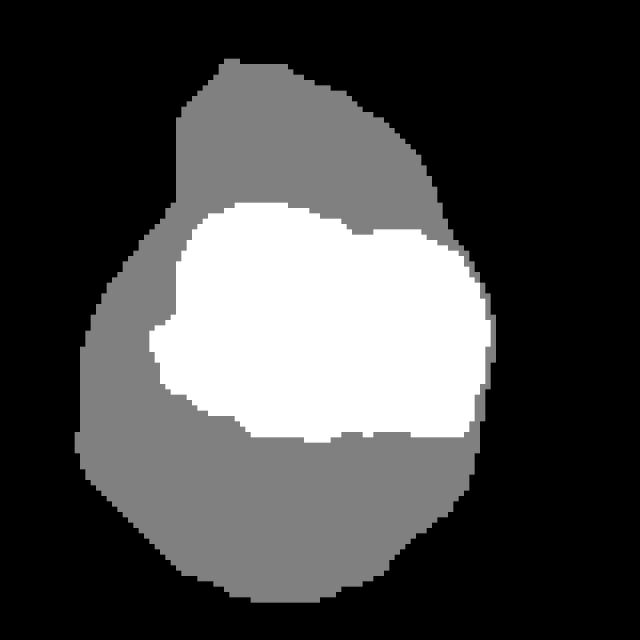WBC: (64, 42, 523, 618)
